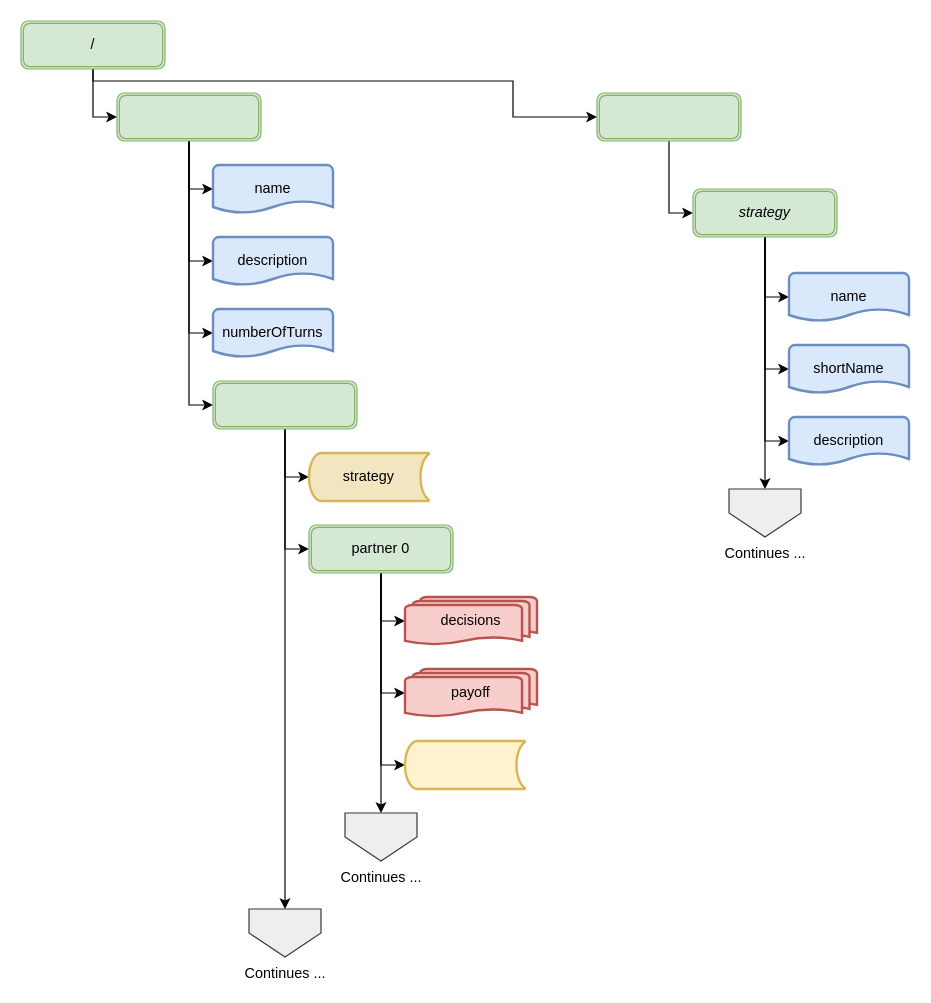
Image size: 931x1003. Some labels were removed from this diagram. Each missing label, with the box of its shape:
championship: (116, 92, 261, 141)
player A: (212, 380, 357, 429)
player group: (403, 739, 526, 790)
Strategies: (596, 92, 741, 141)
